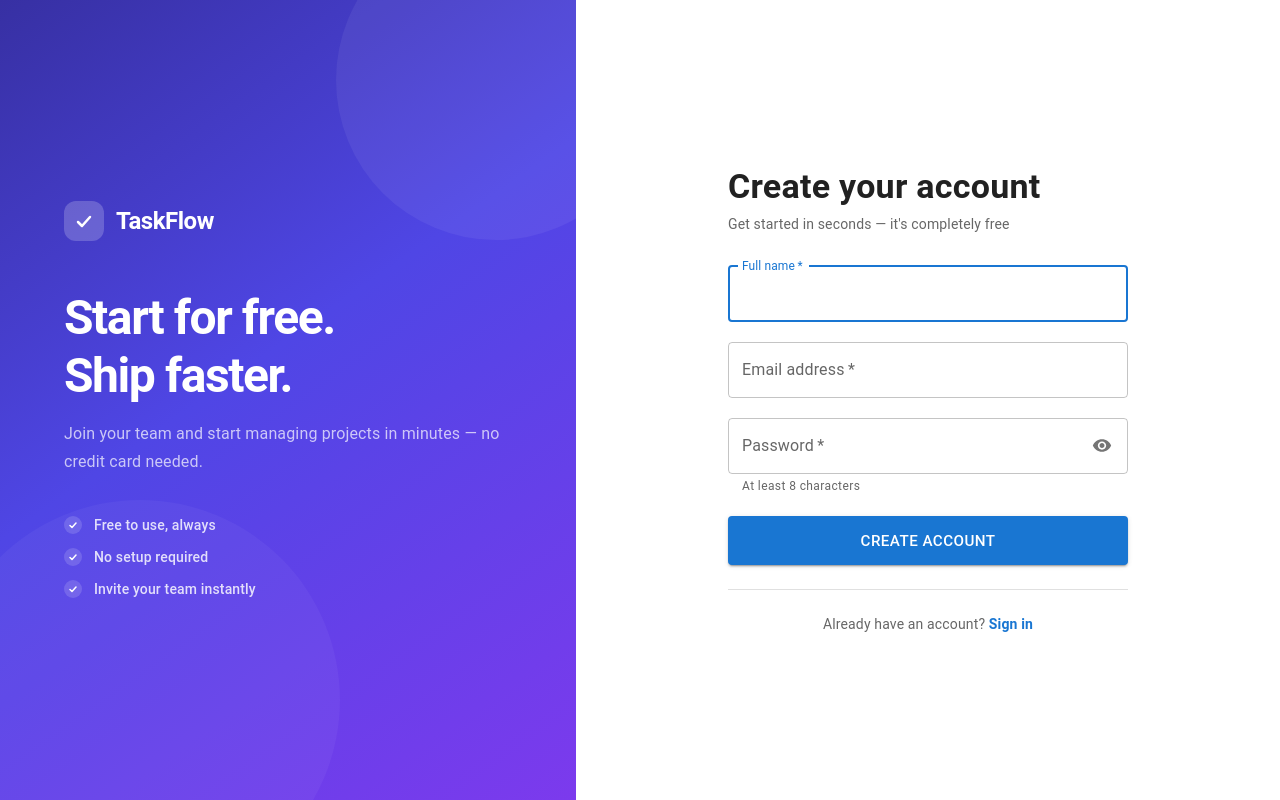
Test: RegisterPage › shows loading state while submitting
In the field labelled "Full name *": (928, 294) x1=728 y1=266 x2=1128 y2=322, type "Alice"
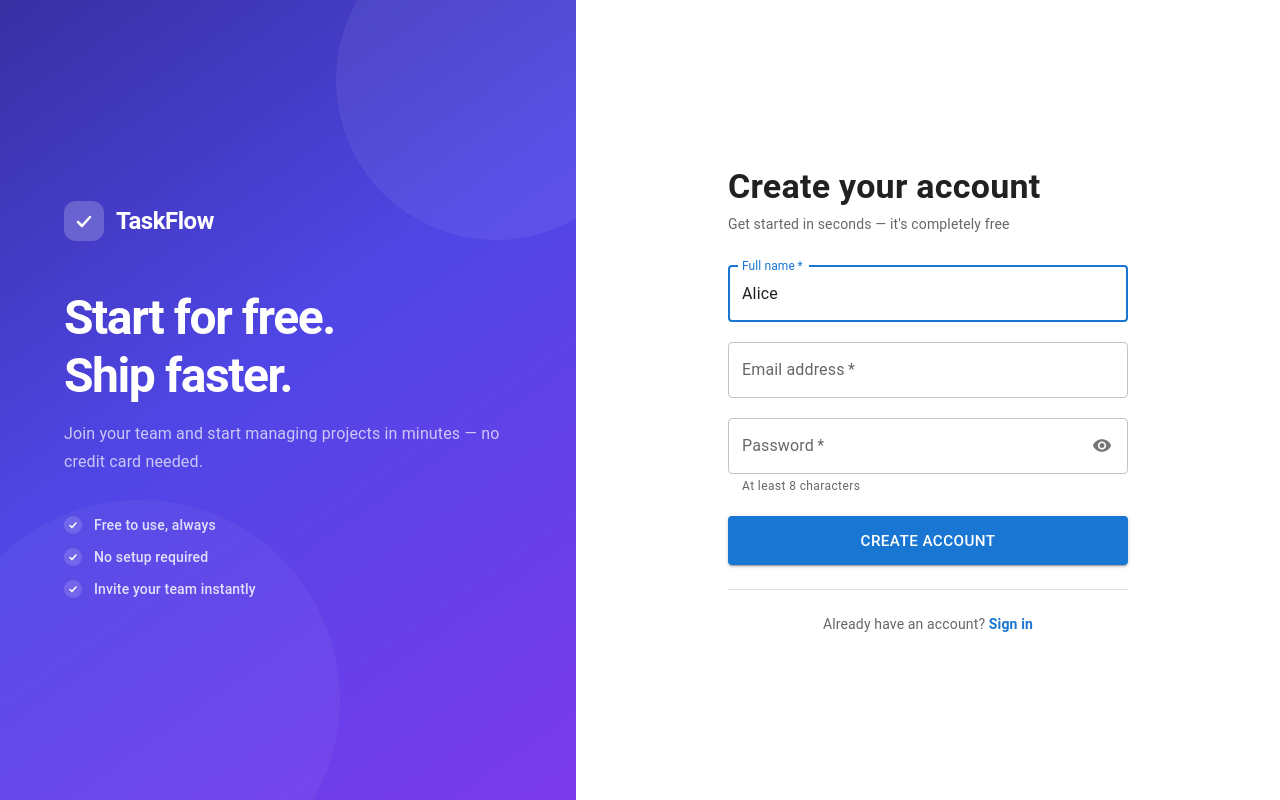
In the field labelled "Email address *": (928, 370) x1=728 y1=342 x2=1128 y2=398, type "alice@example.com"
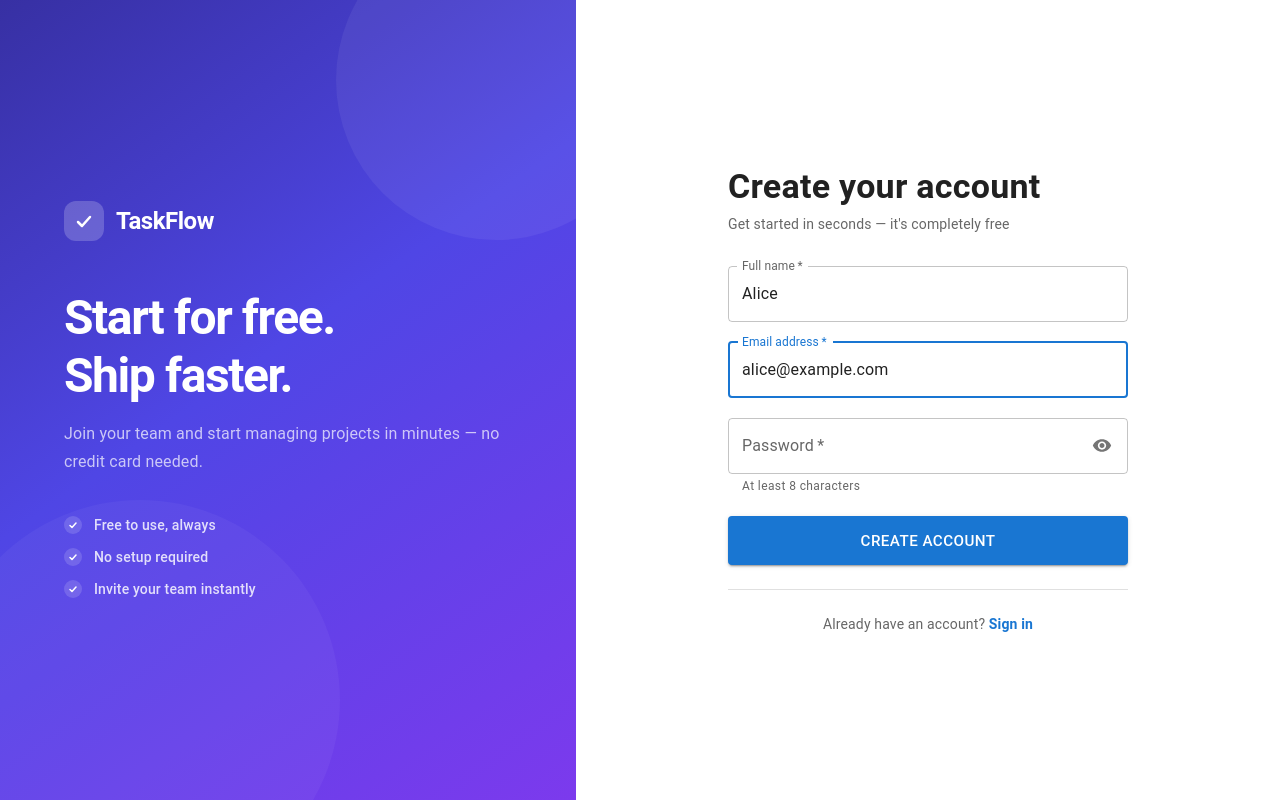
In the password field labelled "Password *": (904, 446) x1=728 y1=418 x2=1079 y2=474, type "password123"
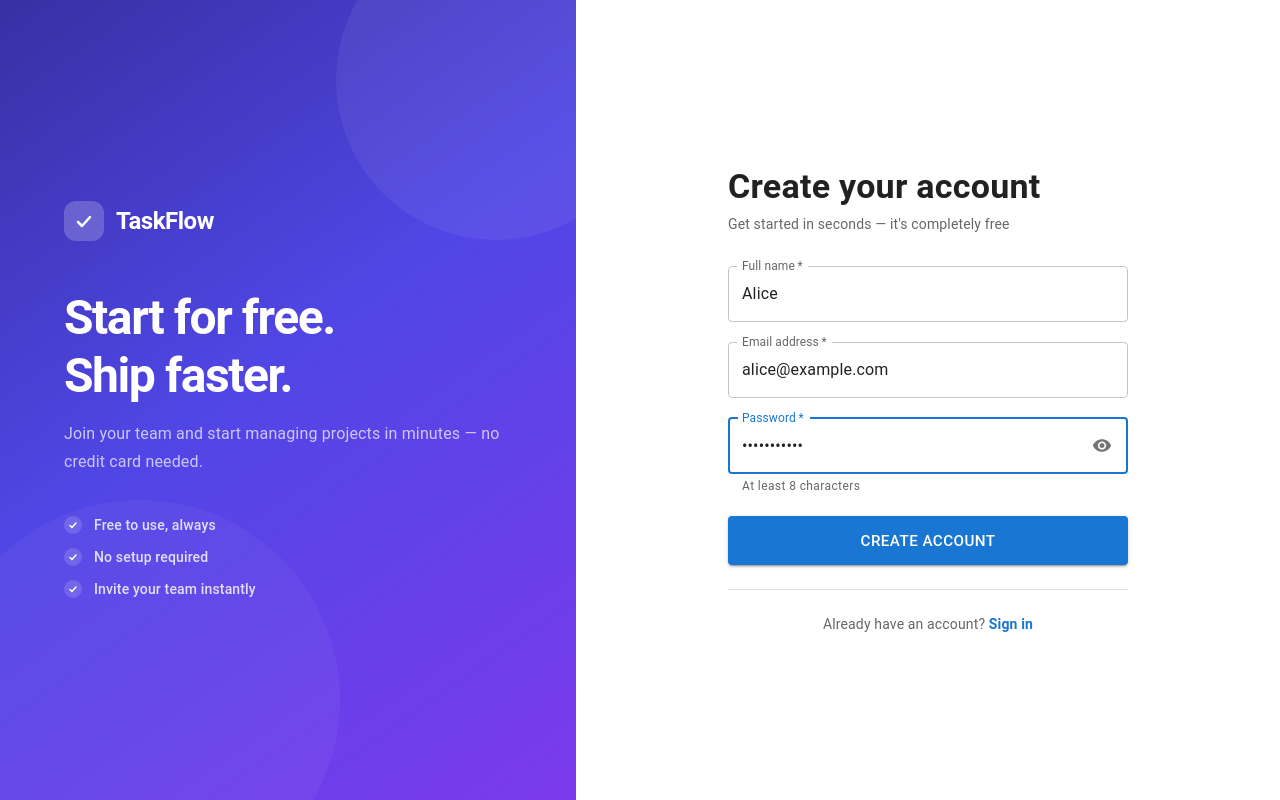
Click the button "Create account": (928, 541) x1=728 y1=516 x2=1128 y2=566
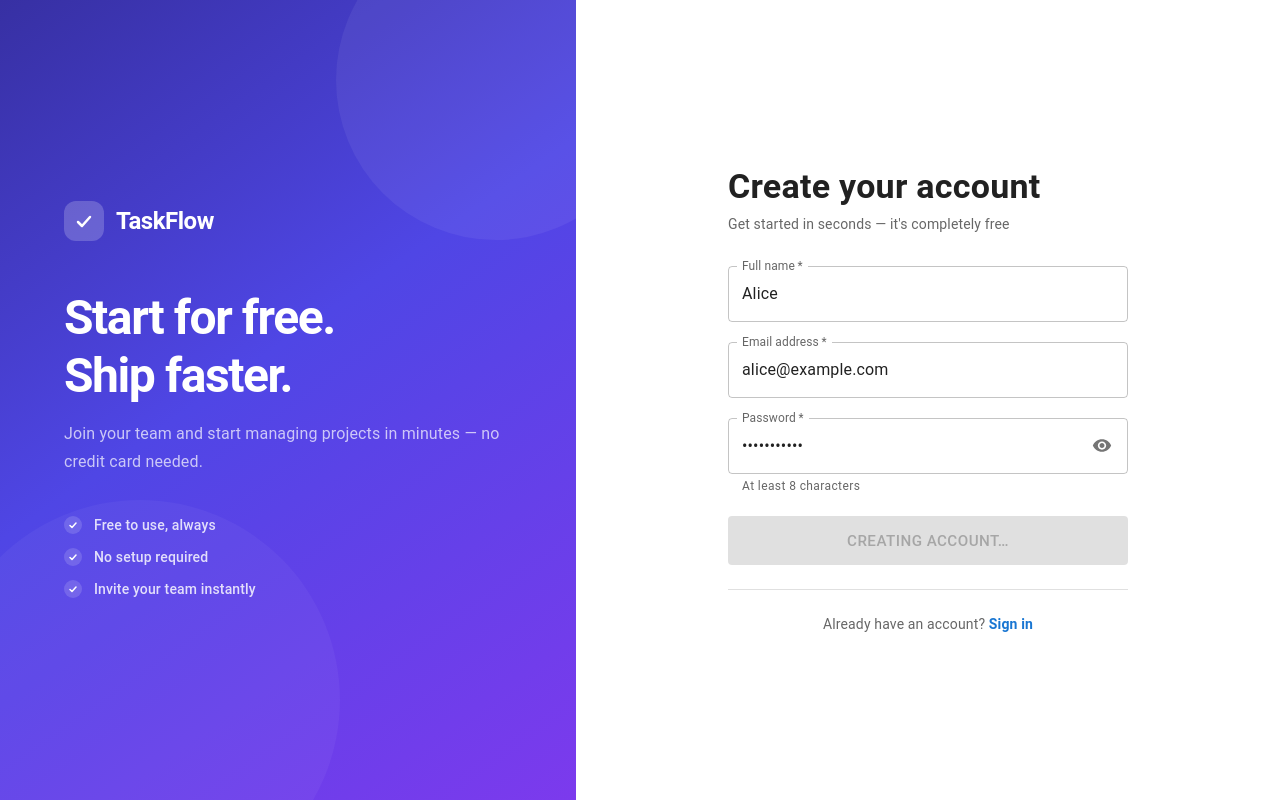
Result: the button "Creating account…" is disabled at x1=728 y1=516 x2=1128 y2=566
